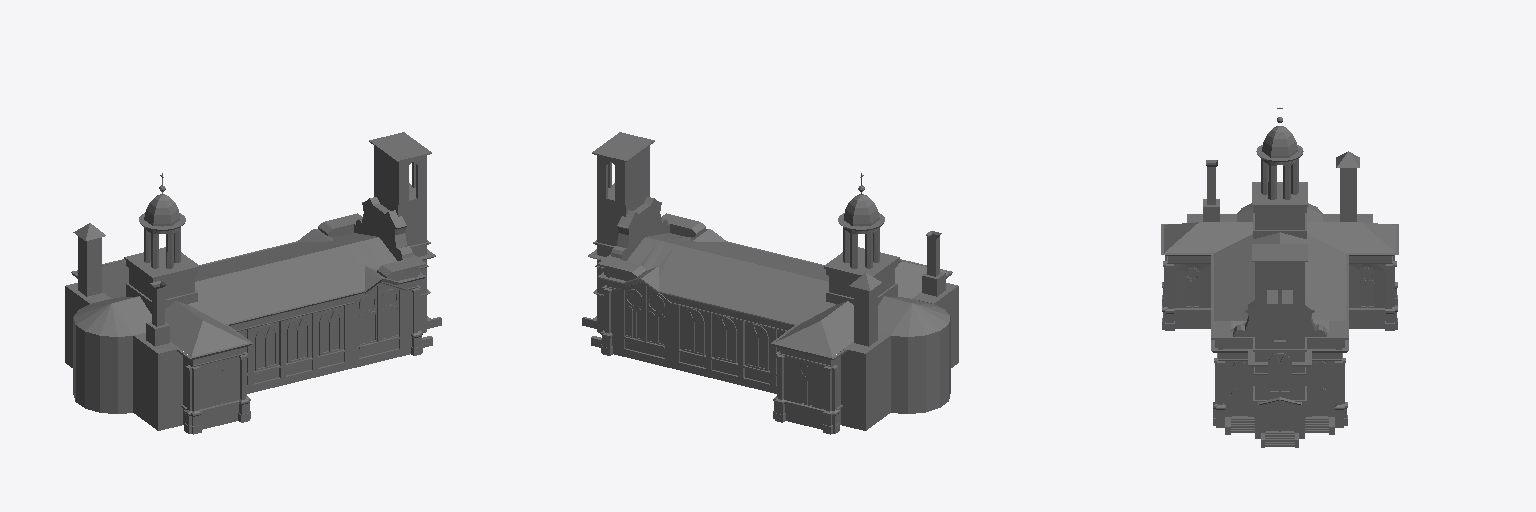
The model's file is SM_Church_v01.obj.
3 views of the same model, side by side, from view 1: azimuth 30°, elevation 25°; view 2: azimuth 150°, elevation 25°; view 3: azimuth 270°, elevation 25° (orthographic).
Parts seen in each view (by area): view 1: church; view 2: church; view 3: church.
Part boxes in pixels (x1,y1,x2,y2): church: (65,132,441,434); church: (582,132,958,434); church: (1161,108,1398,447).
Bounding box in the file's own units: 6593 × 3782 × 3852.